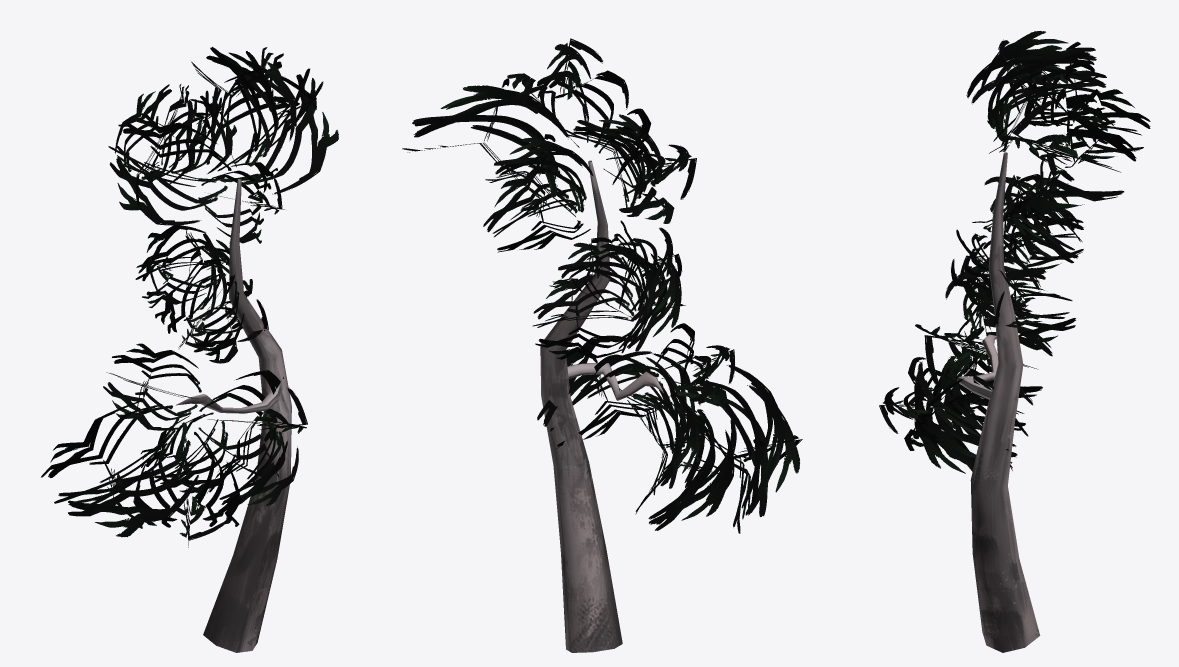
Rendered from Tree_E_freezed.fbx.
3 renders of one model, left to right at view 1: azimuth 30°, elevation 25°; view 2: azimuth 150°, elevation 25°; view 3: azimuth 270°, elevation 25°, orthographic. The views are drawn at different scales.
Parts seen in each view (by area): view 1: leaf_E3, tree_E_trunk, leaf_E4, leaf_E1, leaf_E2; view 2: tree_E_trunk, leaf_E3, leaf_E2, leaf_E4, leaf_E1; view 3: tree_E_trunk, leaf_E4, leaf_E3, leaf_E1, leaf_E2.
Part boxes in pixels (x1,y1,x2,y2): leaf_E3: (54, 47, 296, 537); tree_E_trunk: (176, 179, 291, 652); leaf_E4: (115, 47, 338, 540); leaf_E1: (41, 51, 298, 516); leaf_E2: (134, 52, 323, 547); tree_E_trunk: (540, 160, 663, 652); leaf_E3: (507, 46, 799, 519); leaf_E2: (416, 85, 736, 530); leaf_E4: (402, 78, 736, 519); leaf_E1: (521, 38, 802, 533); tree_E_trunk: (957, 152, 1040, 652); leaf_E4: (913, 41, 1150, 473); leaf_E3: (879, 31, 1106, 450); leaf_E1: (884, 31, 1103, 442); leaf_E2: (914, 56, 1135, 468).
Bounding box in the file's own units: 113 × 180 × 78.04.
